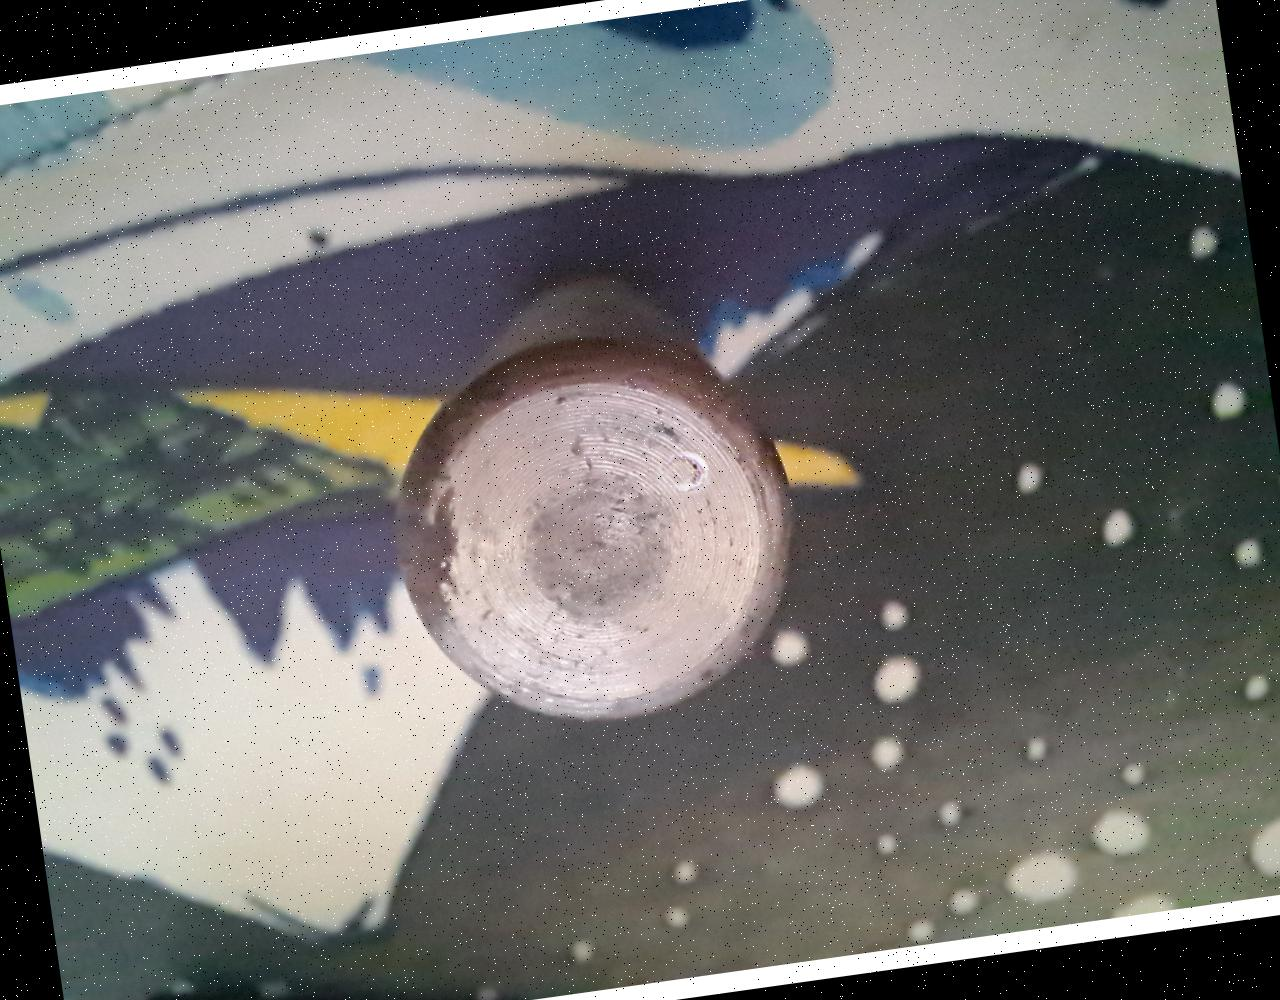defect: (661, 447, 712, 497)
planson: (392, 275, 798, 718)
